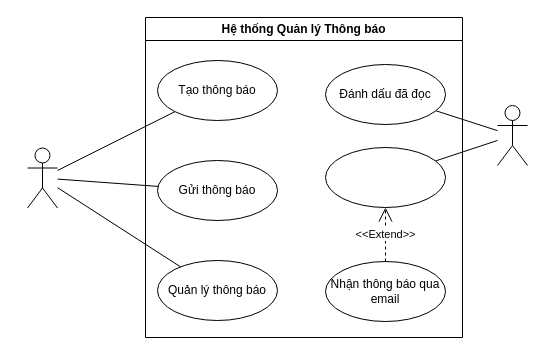
Some shapes in this 553 by 355 pixel diagram are drawn without their labels. The centre of each missing label's shape, as x and y in pixels:
Giáo viên: pixel 42 177
Học sinh: pixel 512 135
Xem thông báo: pixel 385 177
